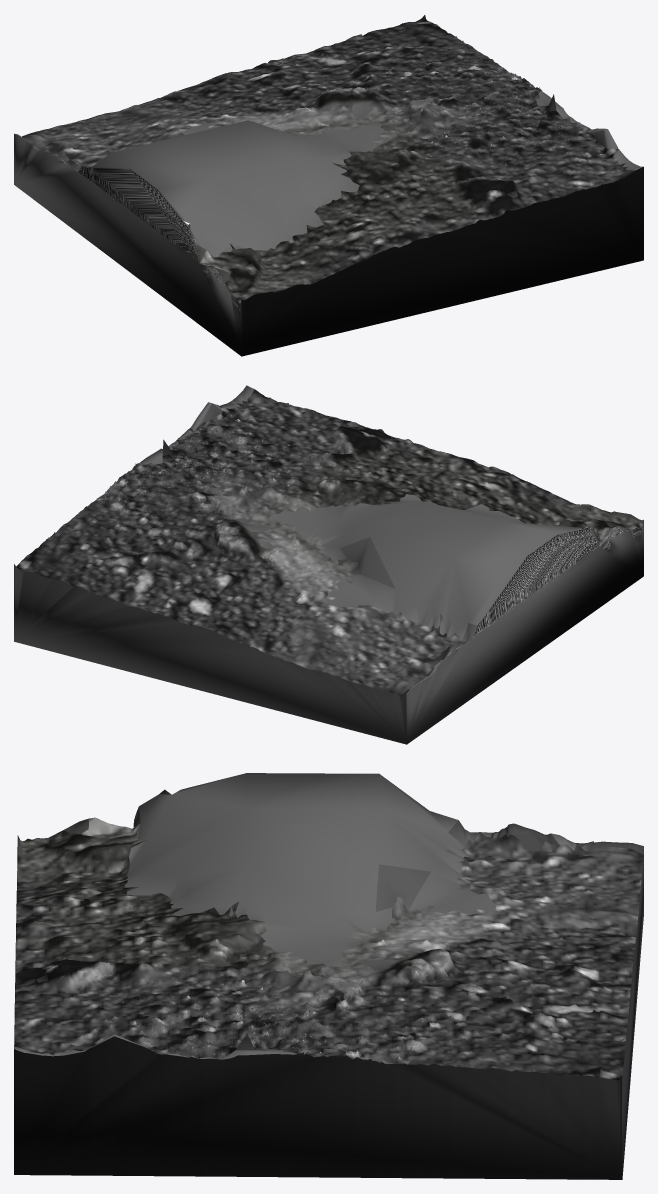
The model's file is bennu.glb.
3 views of the same model, one above another, from view 1: azimuth 30°, elevation 25°; view 2: azimuth 150°, elevation 25°; view 3: azimuth 270°, elevation 25° (orthographic). The views are drawn at different scales.
Parts seen in each view (by area): view 1: Object_2, Object_4, Object_3; view 2: Object_2, Object_4, Object_3; view 3: Object_2, Object_4, Object_3.
Boxes of the visible parts, x1,y1,x2,y2 form: Object_2: (14, 15, 643, 356); Object_4: (30, 23, 624, 273); Object_3: (85, 77, 626, 299); Object_2: (14, 385, 643, 744); Object_4: (26, 397, 531, 687); Object_3: (152, 402, 639, 667); Object_2: (14, 773, 643, 1179); Object_4: (17, 840, 641, 1074); Object_3: (17, 823, 618, 1058).
Bounding box in the file's own units: 39.95 × 9.77 × 39.71.
Materials: 1 (1 with a texture image).
